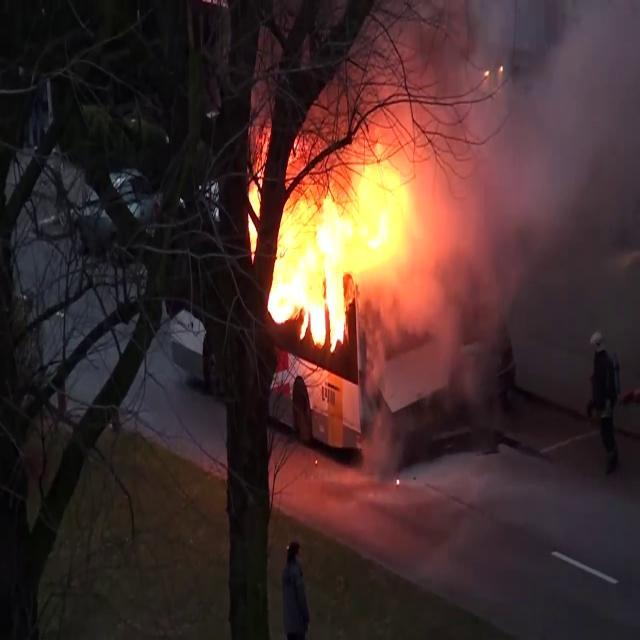Fire: (260, 145, 424, 363)
Smoke: (392, 0, 640, 281)
